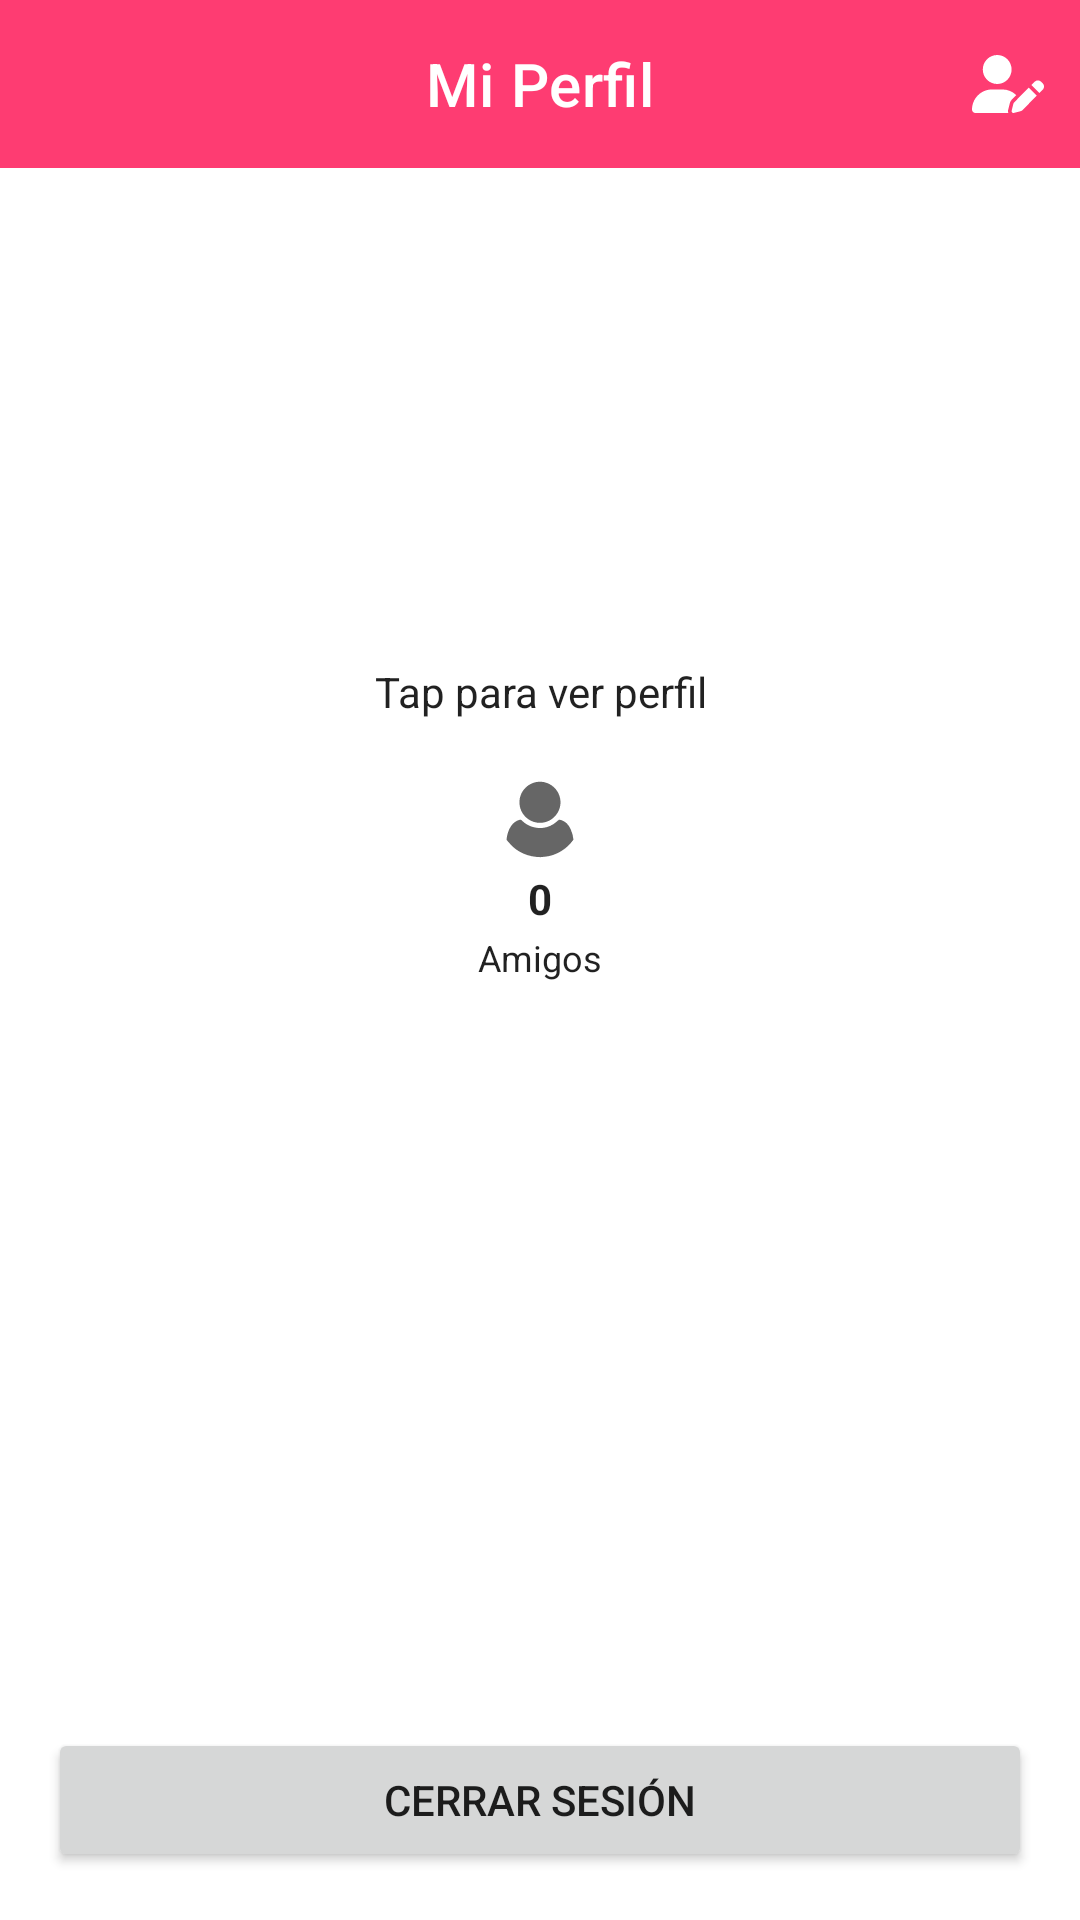

Icon click points for this 1080 × 1920 phone screenshot, format [x,y]:
profile: [540,819]
